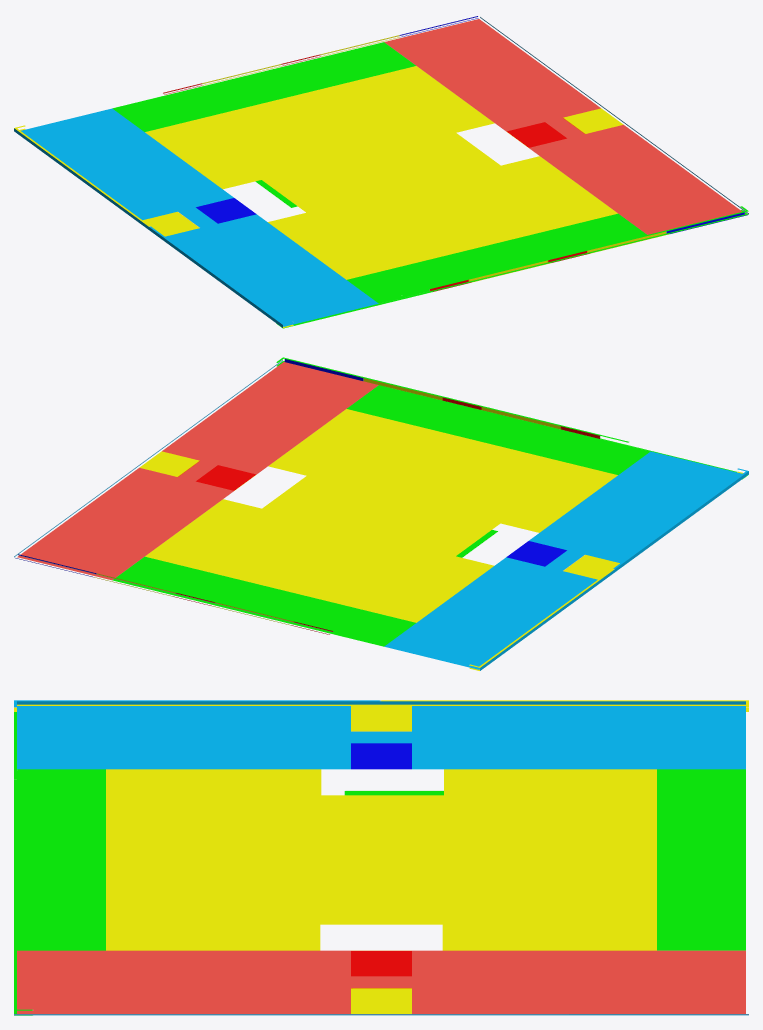
Rendered from ABU2022map.dae.
3 renders of one model, top to bottom at view 1: azimuth 30°, elevation 25°; view 2: azimuth 150°, elevation 25°; view 3: azimuth 270°, elevation 25°, orthographic. The views are drawn at different scales.
Parts seen in each view (by area): view 1: ABU2022map; view 2: ABU2022map; view 3: ABU2022map.
Part boxes in pixels (box(x1,y1,x2,y2)): ABU2022map: box(14, 16, 748, 328); ABU2022map: box(14, 357, 748, 670); ABU2022map: box(14, 700, 748, 1015).
Bounding box in the file's own units: 12 × 12 × 0.2101.
Materials: 1 (1 with a texture image).
